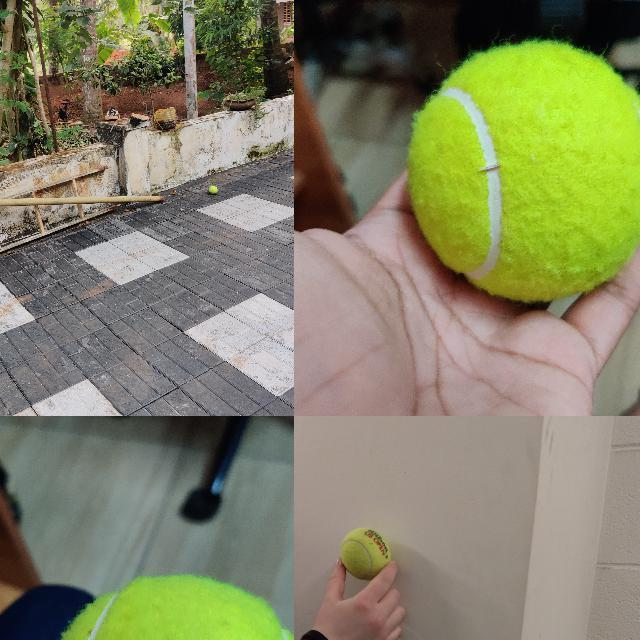tennis-ball: (408, 41, 639, 300), (45, 574, 293, 639), (340, 527, 391, 581), (209, 185, 218, 193)
